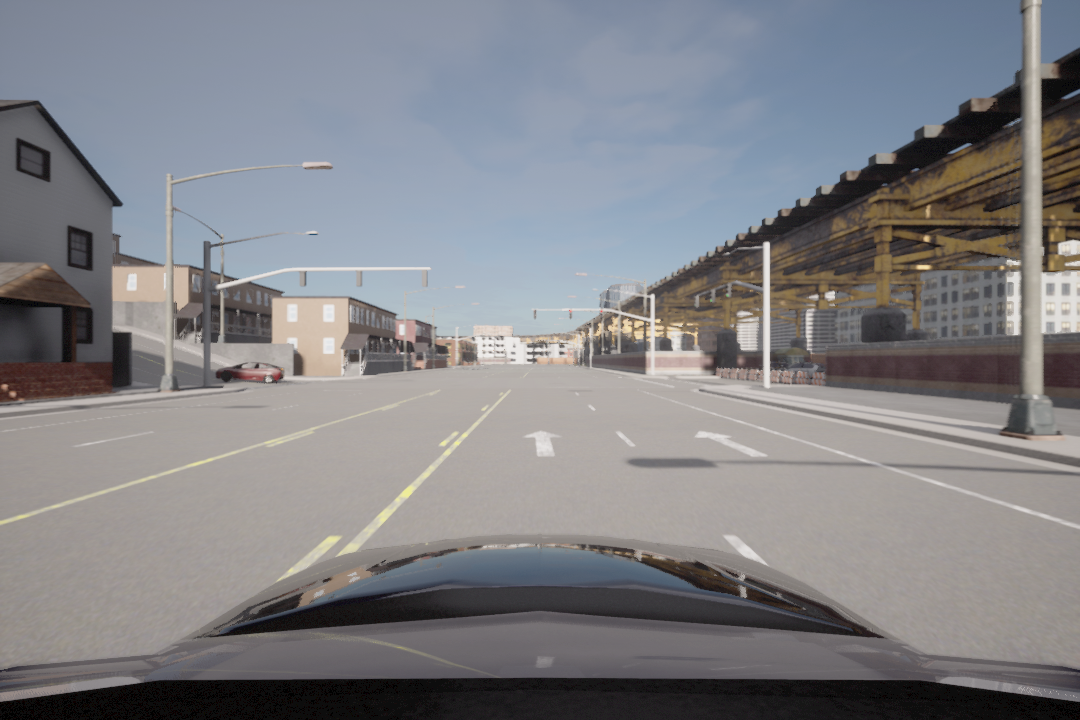RoadSign_forward: (689, 425, 785, 465), (524, 427, 560, 463)
